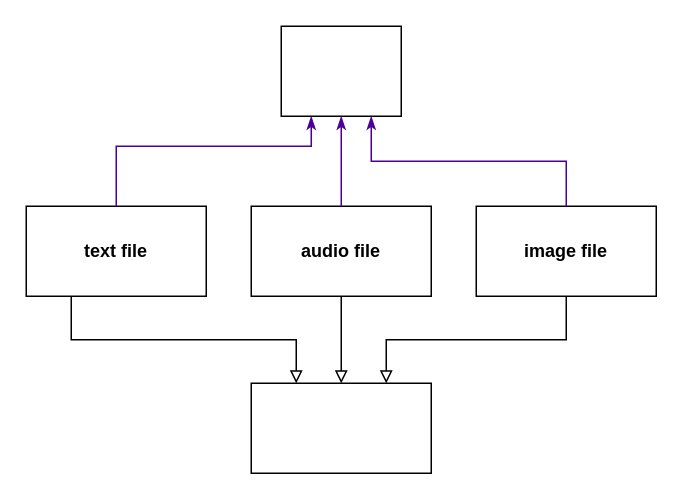
Image size: 683x500. Some labels were removed from this diagram. The centre of each missing label's shape, as x and y in pixels:
Directory: the point at 340,427
File: the point at 340,70
